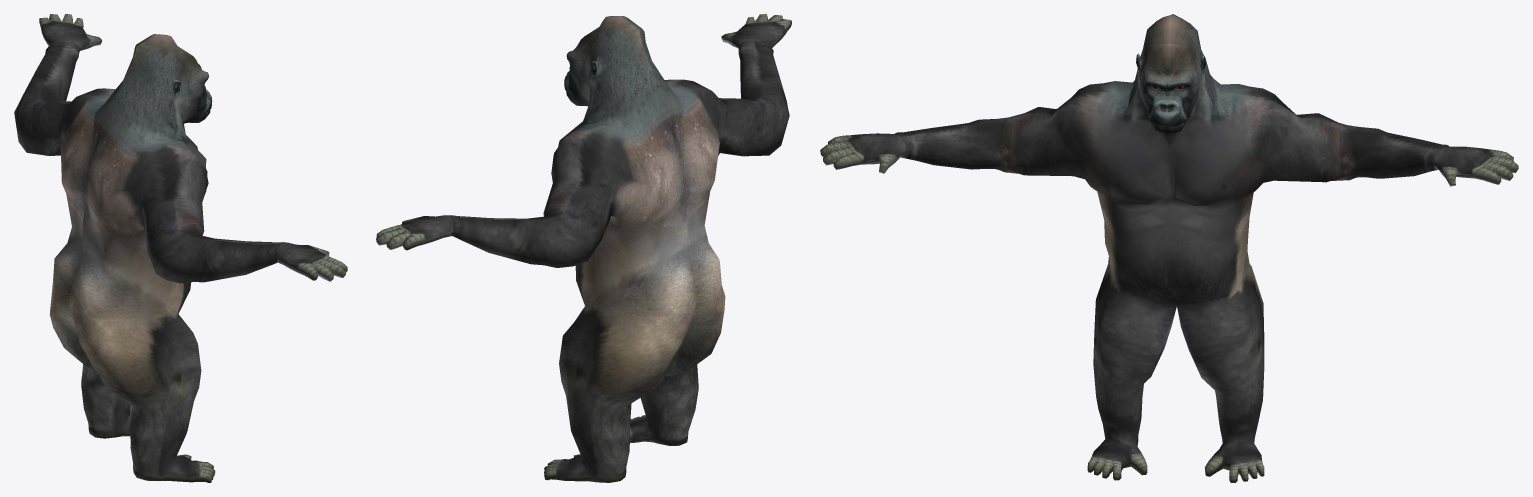
File: gorilla.obj
3 views of the same model, side by side, from view 1: azimuth 30°, elevation 25°; view 2: azimuth 150°, elevation 25°; view 3: azimuth 270°, elevation 25° (orthographic). The views are drawn at different scales.
Visible parts, largest first — view 1: GorillaLowPoly_0.003; view 2: GorillaLowPoly_0.003; view 3: GorillaLowPoly_0.003.
Part boxes in pixels (<box>): GorillaLowPoly_0.003: <box>14,14,347,482</box>; GorillaLowPoly_0.003: <box>376,14,791,482</box>; GorillaLowPoly_0.003: <box>820,14,1518,482</box>.
Size of the model in its own units: 2.45 by 5.93 by 8.34.
1 material, 1 textured.
